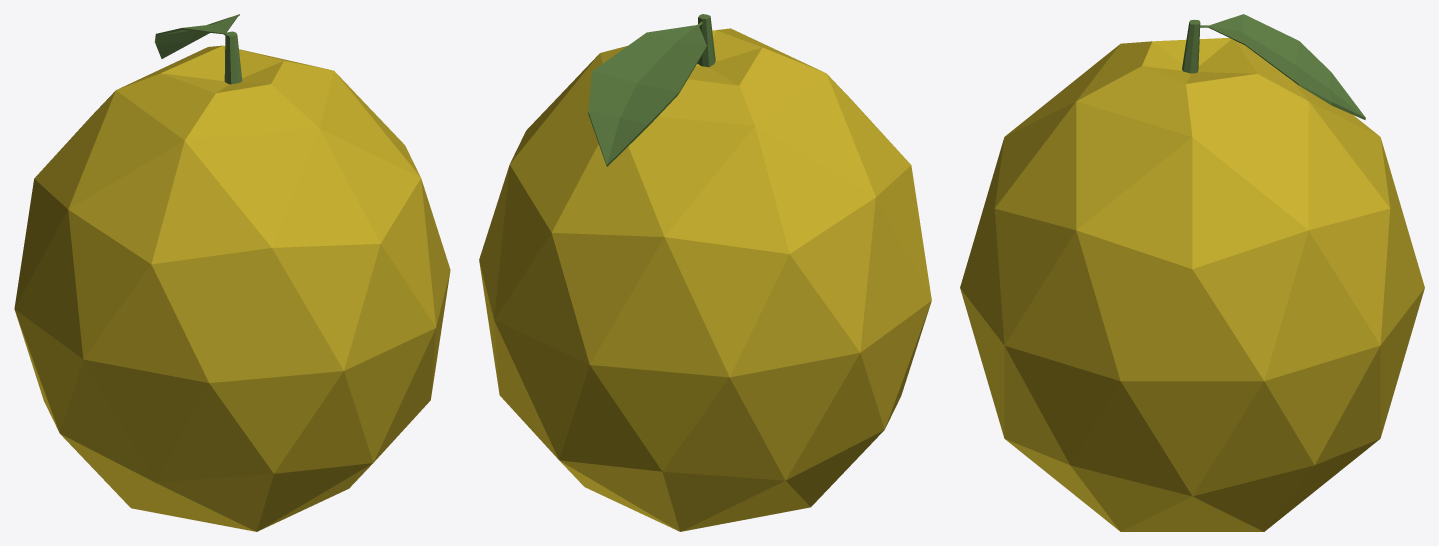
File: Orange_01.fbx
3 renders of one model, left to right at view 1: azimuth 30°, elevation 25°; view 2: azimuth 150°, elevation 25°; view 3: azimuth 270°, elevation 25°, orthographic. The views are drawn at different scales.
Parts seen in each view (by area): view 1: Orange_01; view 2: Orange_01; view 3: Orange_01.
Boxes of the visible parts, <box> form: Orange_01: <box>14,14,450,531</box>; Orange_01: <box>479,14,931,531</box>; Orange_01: <box>960,14,1424,531</box>.
Size of the model in its own units: 9.2 by 11.35 by 9.67.
